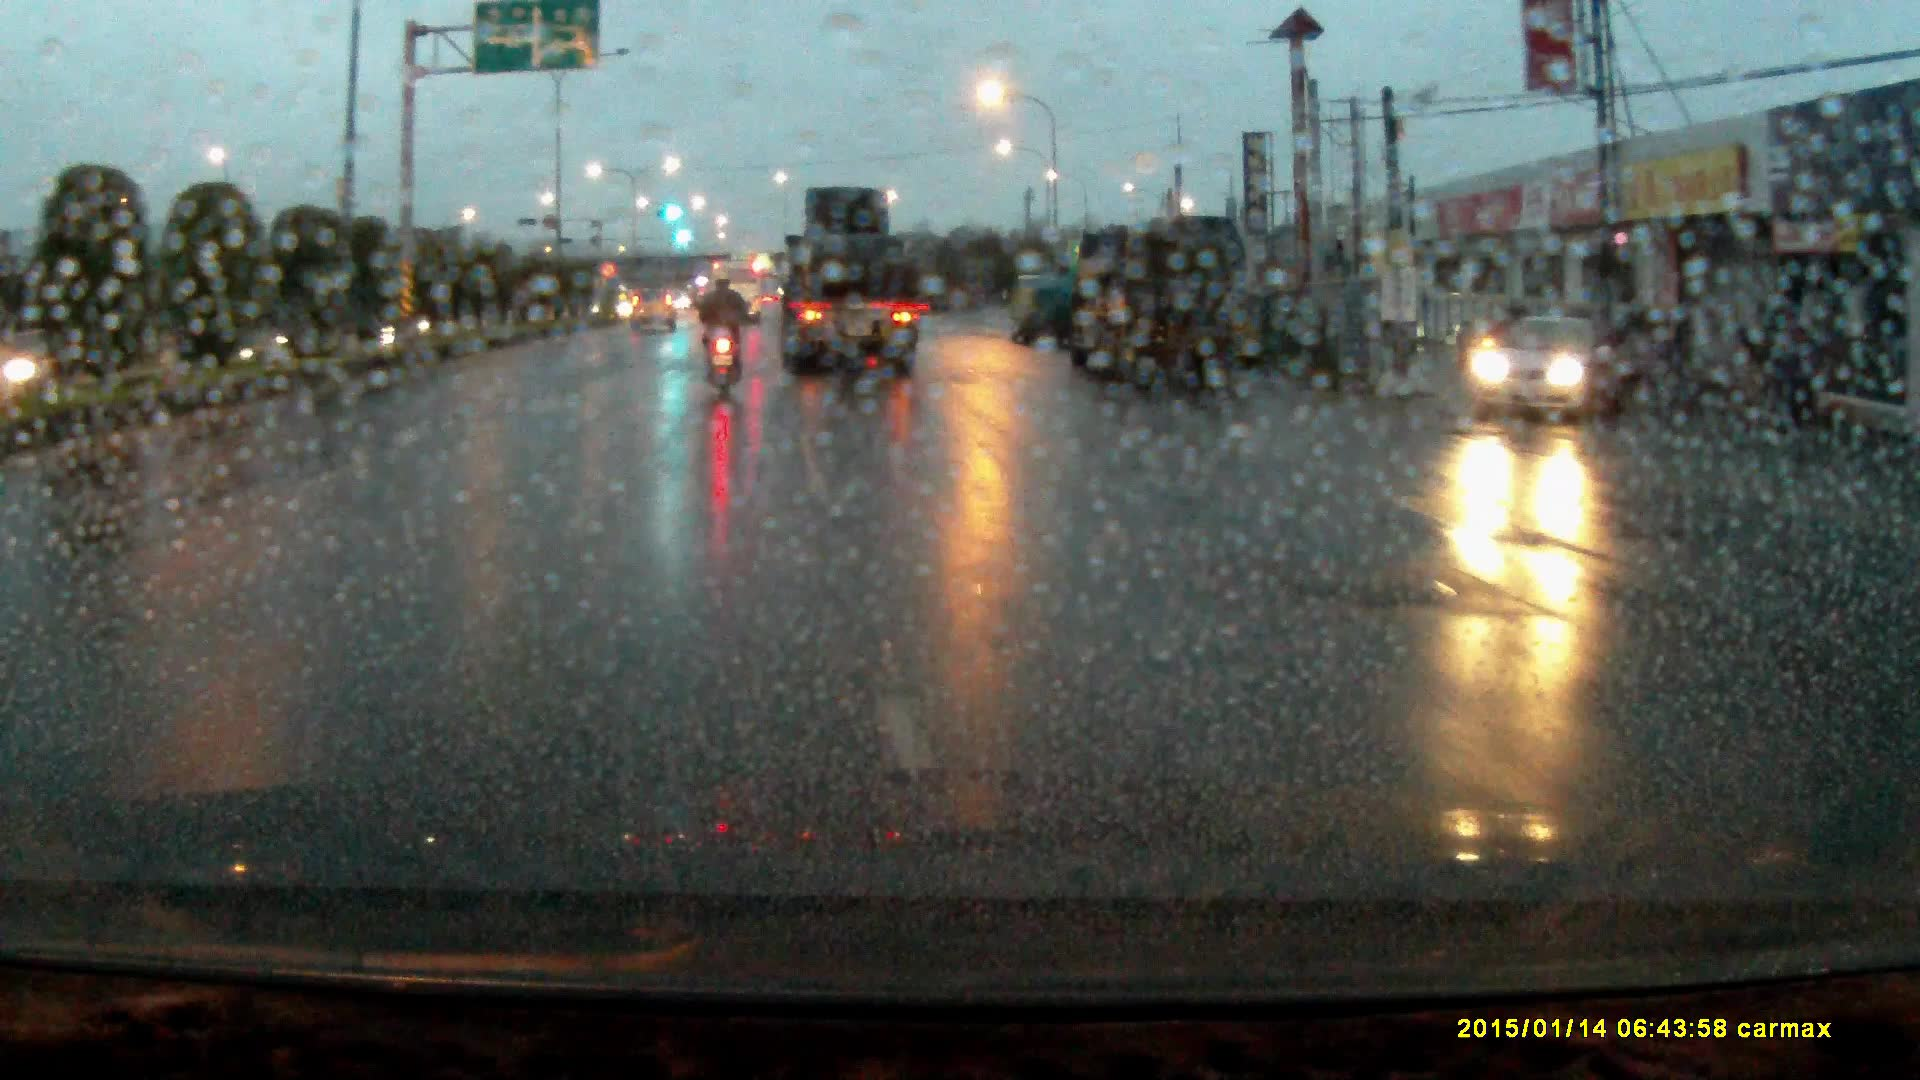rider: (695, 270, 754, 397)
vehicle: (1067, 212, 1247, 396), (783, 191, 921, 380), (1466, 309, 1647, 420), (1007, 273, 1080, 348), (712, 260, 761, 322), (629, 289, 678, 335)
